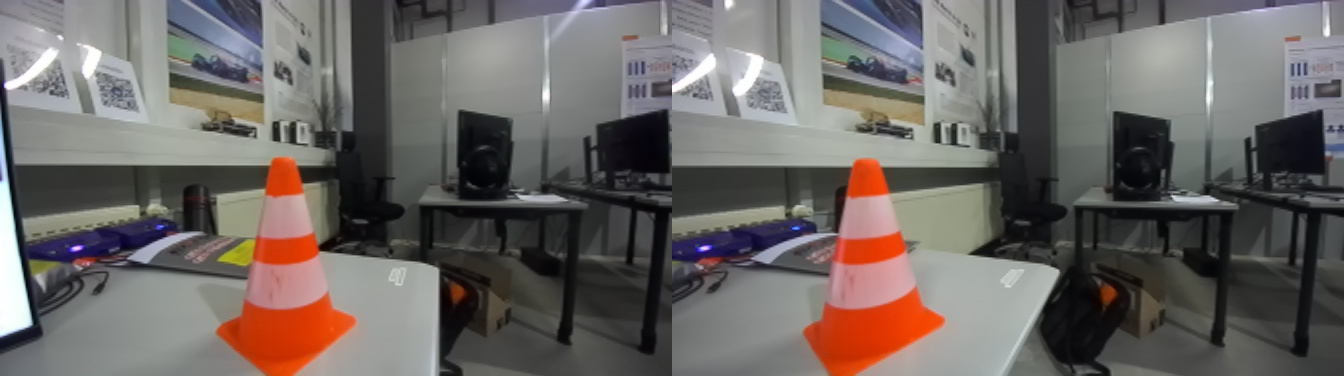cone: (216, 158, 364, 376), (810, 161, 951, 376)
